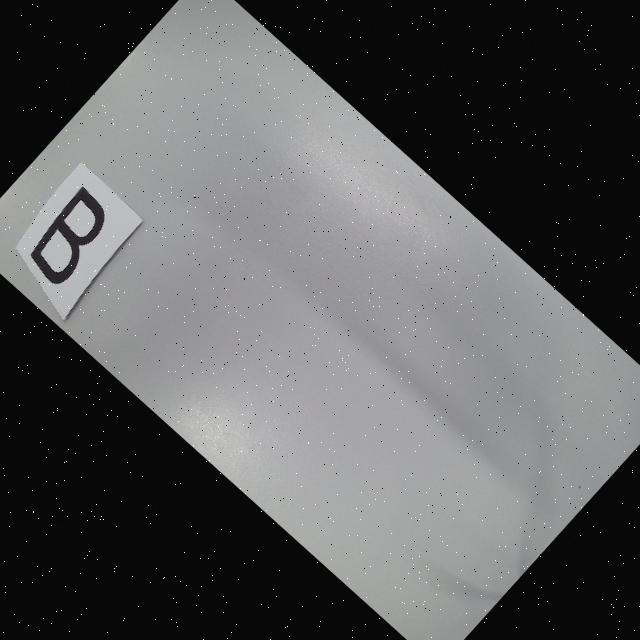FAKE: (20, 186, 120, 289)
